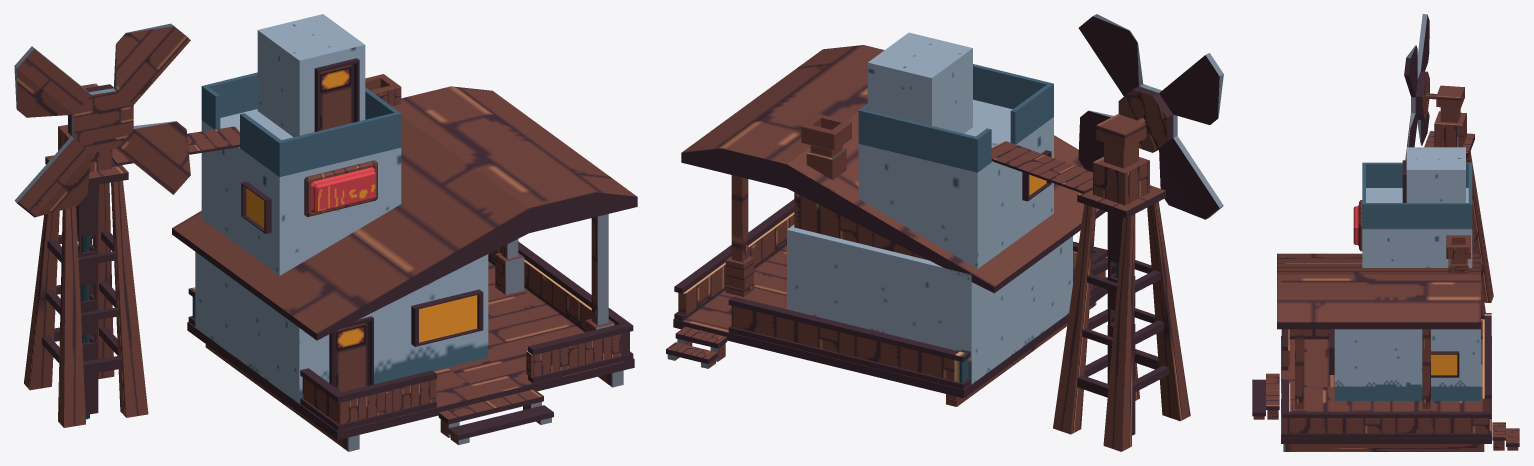
File: Fazenda do Seu Benjo.v1.Anibal.2508.fbx
3 views of the same model, side by side, from view 1: azimuth 30°, elevation 25°; view 2: azimuth 150°, elevation 25°; view 3: azimuth 270°, elevation 25° (orthographic). The views are drawn at different scales.
Visible parts, largest first — view 1: Fazenda do Seu Benjo; view 2: Fazenda do Seu Benjo; view 3: Fazenda do Seu Benjo.
Boxes of the visible parts, x1,y1,x2,y2 form: Fazenda do Seu Benjo: [14, 14, 637, 451]; Fazenda do Seu Benjo: [666, 14, 1223, 451]; Fazenda do Seu Benjo: [1252, 14, 1519, 451].
Size of the model in its own units: 1620 by 1032 by 1201.
